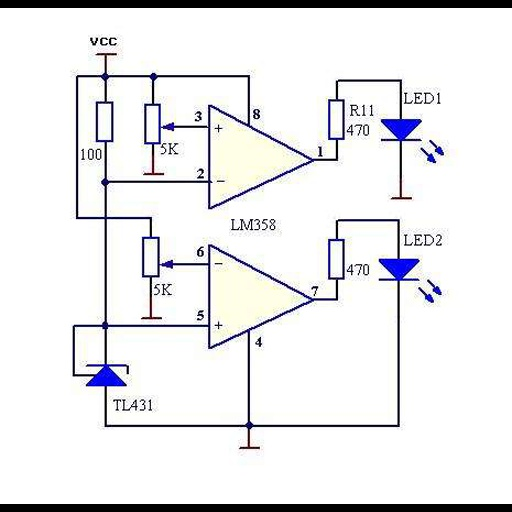amplifier: (204, 101, 315, 217), (203, 241, 318, 352)
firstled: (375, 255, 447, 306), (379, 114, 448, 166)
firstresistance: (89, 97, 123, 145), (324, 94, 347, 143), (324, 235, 347, 282)
